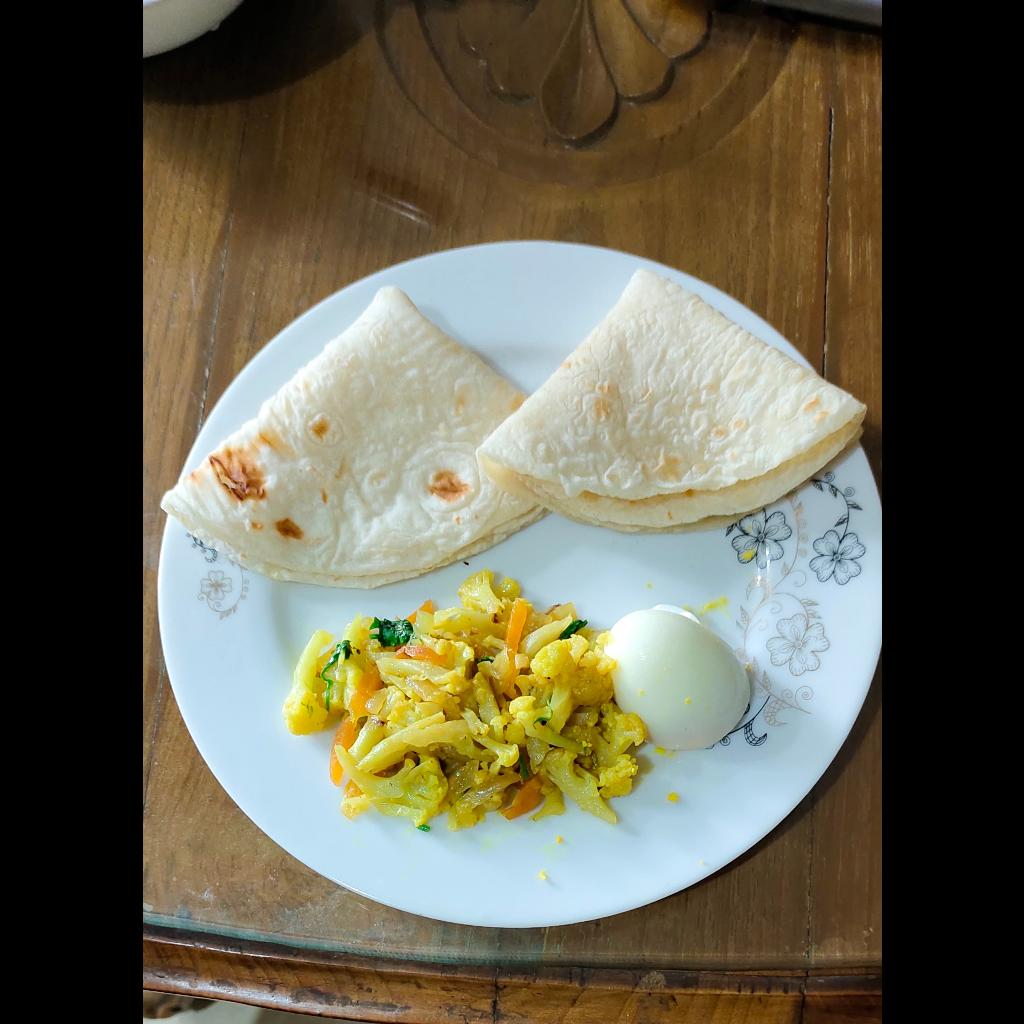cauliflower: (282, 560, 643, 828)
egg-boiled: (609, 599, 753, 746)
ruti: (155, 272, 867, 592)
